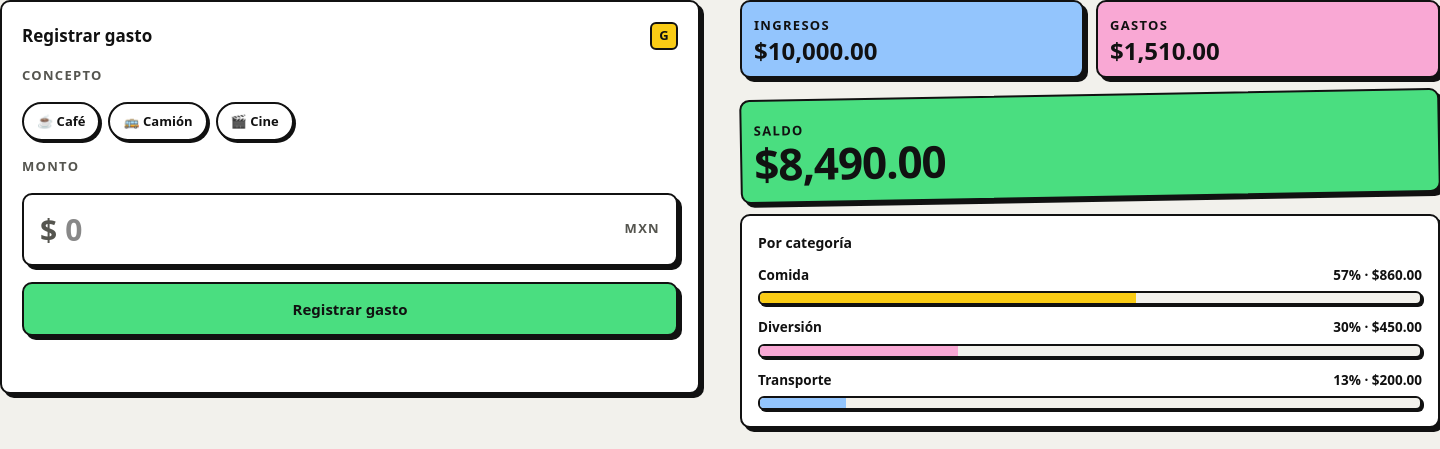
Test: LandingDemo — registrar › Registrar gasto sube Gastos, baja Saldo y avisa
Click the button "☕ Café" at (61, 121), box [22,102,100,141]
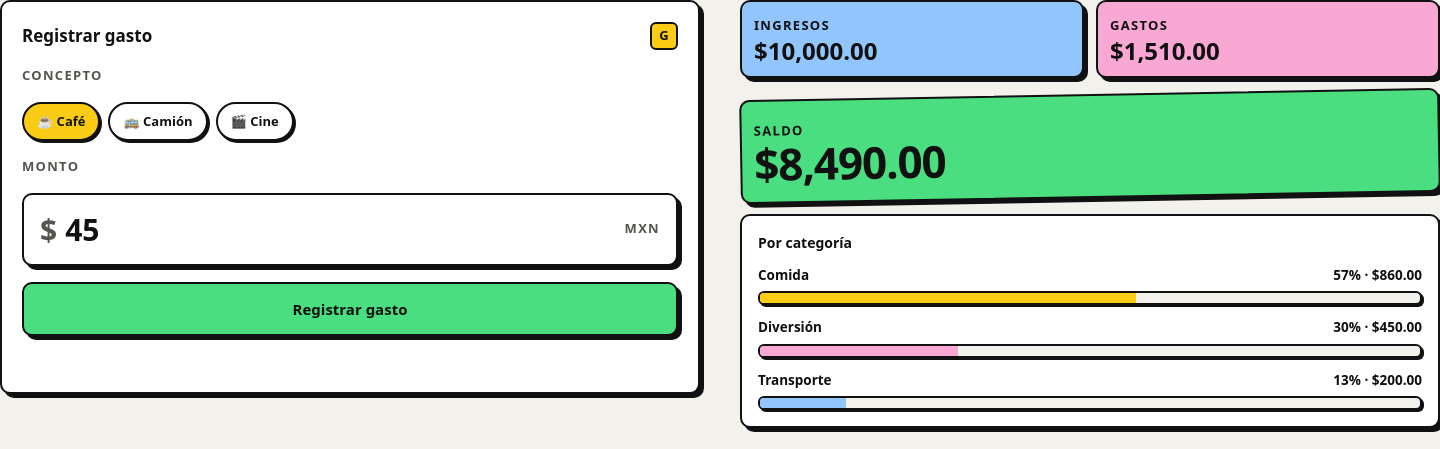
Click the button "Registrar gasto" at (350, 309), box [22,282,678,336]
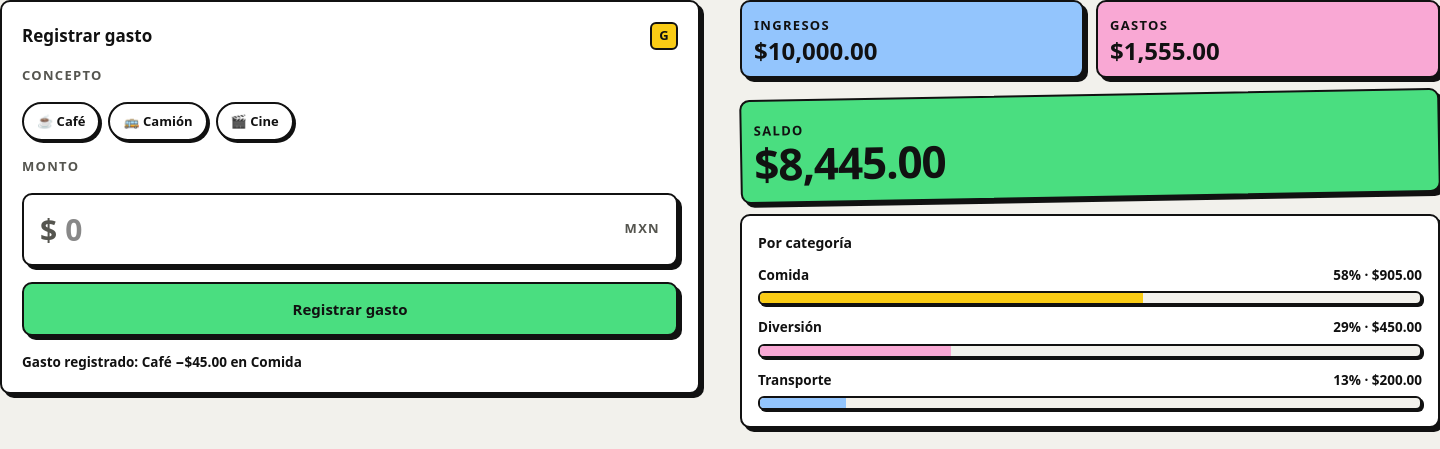
Expected: the text "Gastos" shows "1,555", [1110,34,1220,67]
Expected: the text "Saldo" shows "8,445", [754,130,946,194]
Expected: the message shows "Café", [22,353,302,371]
